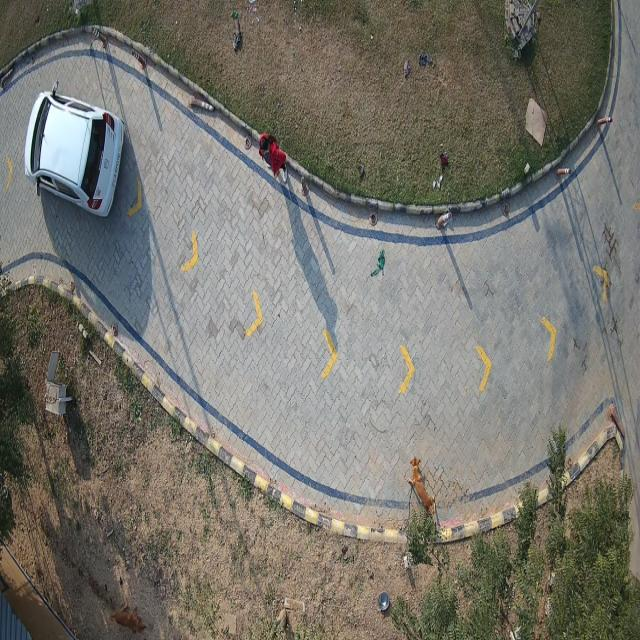car: (25, 87, 124, 218)
